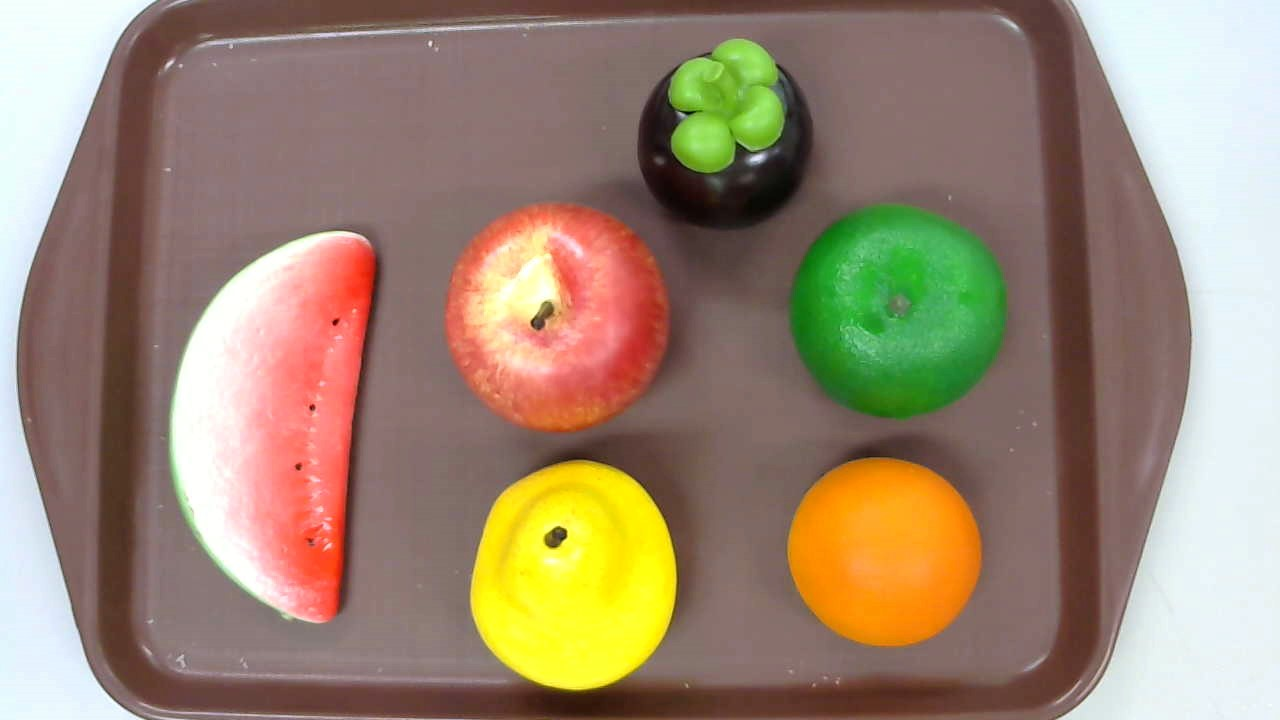bun: (788, 457, 982, 646)
green orange: (786, 202, 1006, 420)
mangosteen: (637, 37, 814, 230)
red apple: (445, 202, 672, 434)
water melon: (169, 230, 378, 628)
yellow pear: (469, 459, 678, 691)
